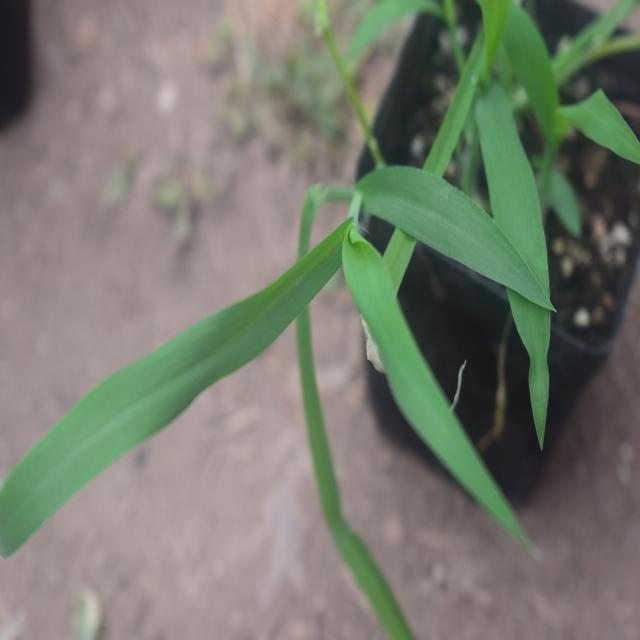crabgrass: (5, 120, 542, 572)
